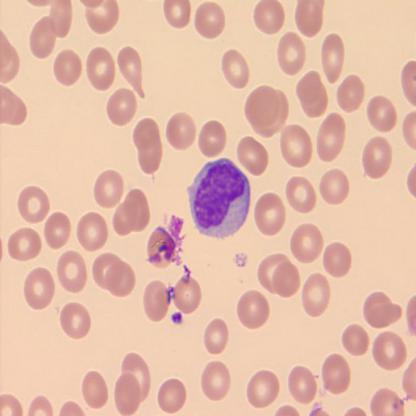Monocyte: (185, 155, 253, 241)
